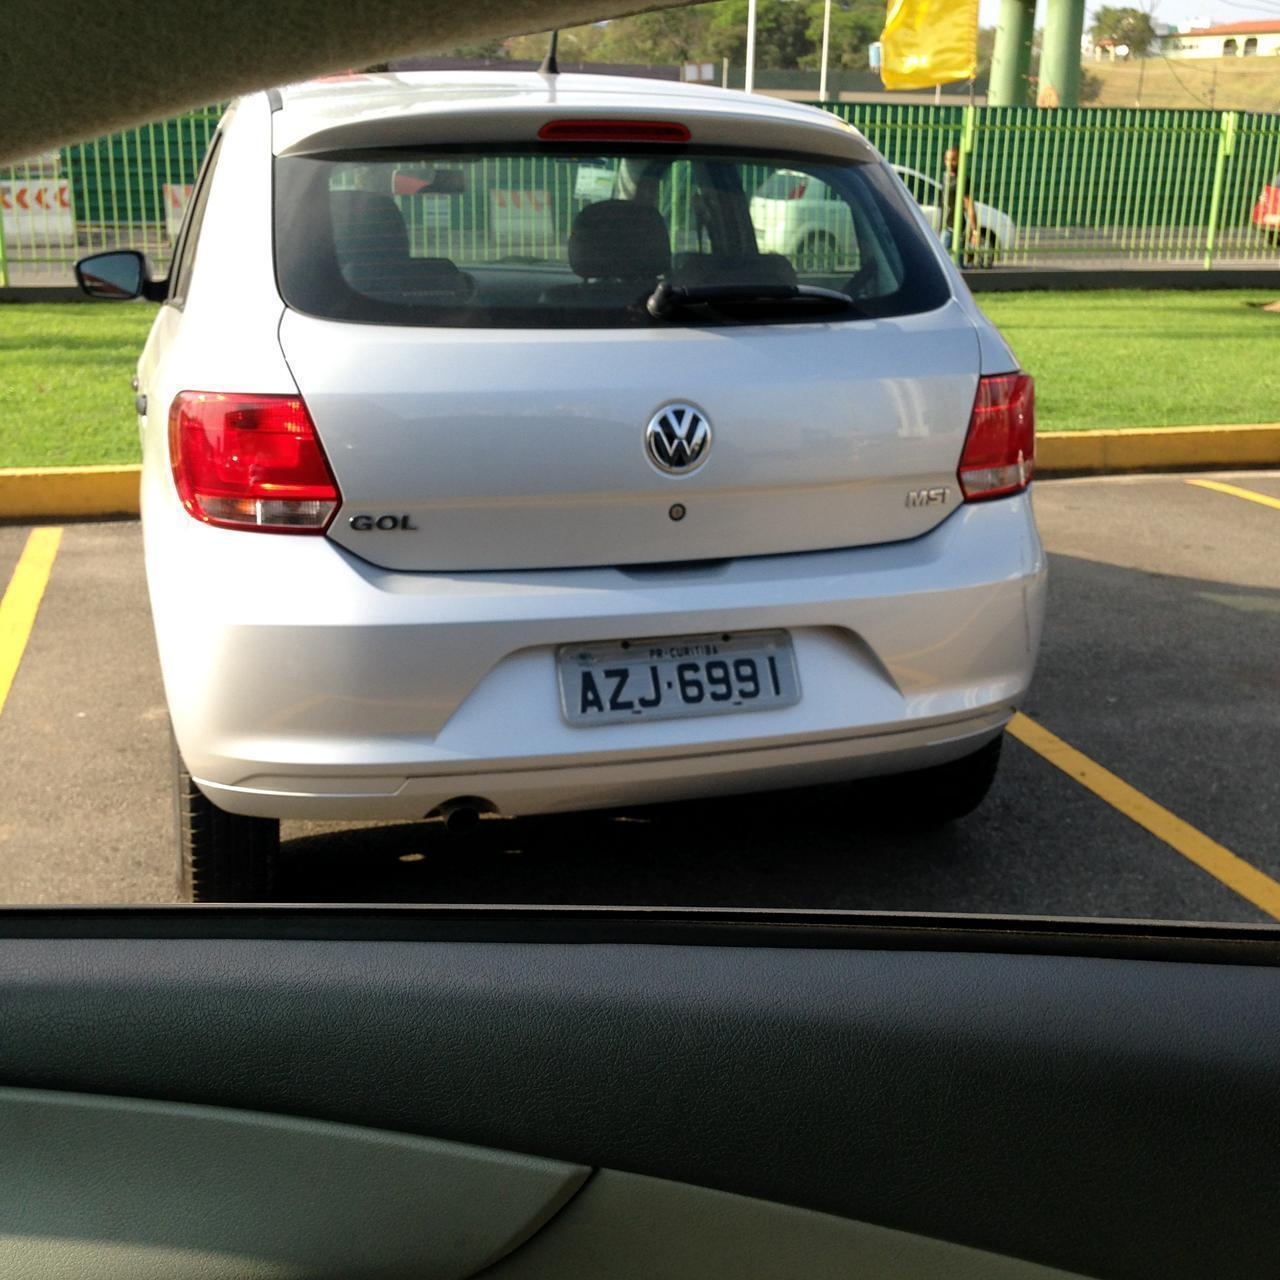placa de veiculo: (553, 619, 815, 753)
